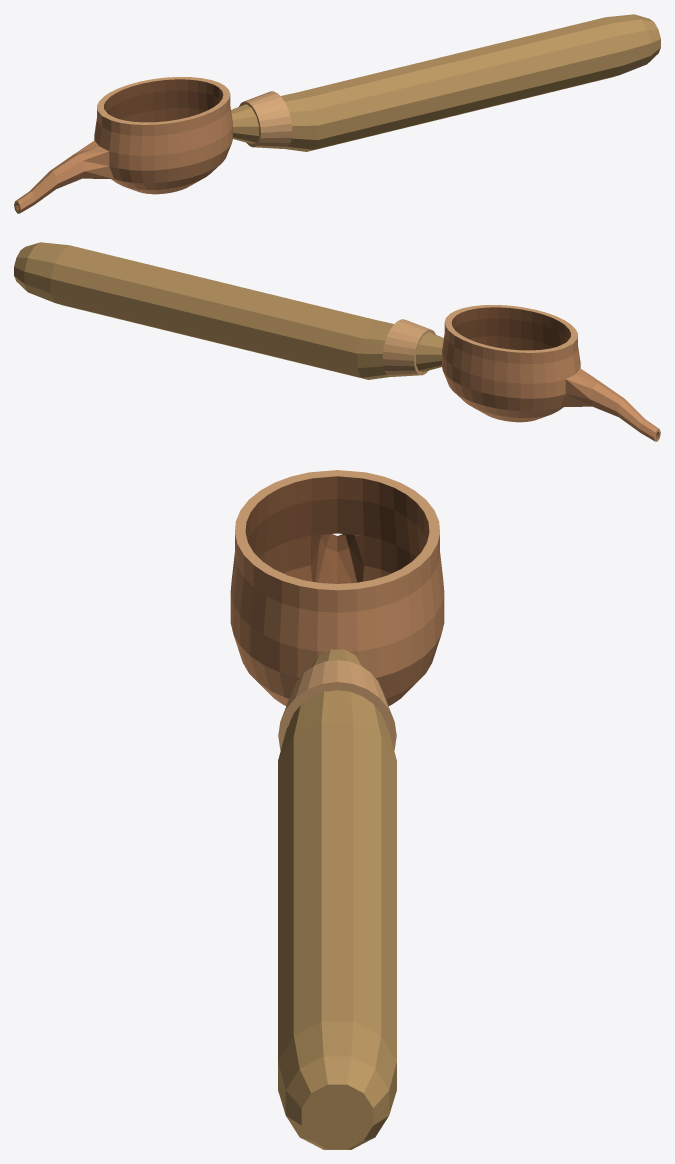
3 views of the same model, one above another, from view 1: azimuth 30°, elevation 25°; view 2: azimuth 150°, elevation 25°; view 3: azimuth 270°, elevation 25° (orthographic). The views are drawn at different scales.
Parts seen in each view (by area): view 1: WholeTaperRootLongWoodenGrip, WholeContinuousOpenOvalCupAndNarrowDownwardSpout, WholeHollowCopperRootFerrule; view 2: WholeTaperRootLongWoodenGrip, WholeContinuousOpenOvalCupAndNarrowDownwardSpout, WholeHollowCopperRootFerrule; view 3: WholeTaperRootLongWoodenGrip, WholeContinuousOpenOvalCupAndNarrowDownwardSpout, WholeHollowCopperRootFerrule.
Boxes of the visible parts, box(x1,y1,x2,y2) form: WholeTaperRootLongWoodenGrip: box(231, 14, 660, 151); WholeContinuousOpenOvalCupAndNarrowDownwardSpout: box(14, 77, 232, 213); WholeHollowCopperRootFerrule: box(239, 91, 292, 148); WholeTaperRootLongWoodenGrip: box(14, 242, 443, 379); WholeContinuousOpenOvalCupAndNarrowDownwardSpout: box(442, 305, 660, 441); WholeHollowCopperRootFerrule: box(382, 319, 435, 376); WholeTaperRootLongWoodenGrip: box(278, 649, 396, 1149); WholeContinuousOpenOvalCupAndNarrowDownwardSpout: box(230, 470, 444, 705); WholeHollowCopperRootFerrule: box(278, 660, 396, 750).
Size of the model in its own units: 0.178 by 0.022 by 0.026.
